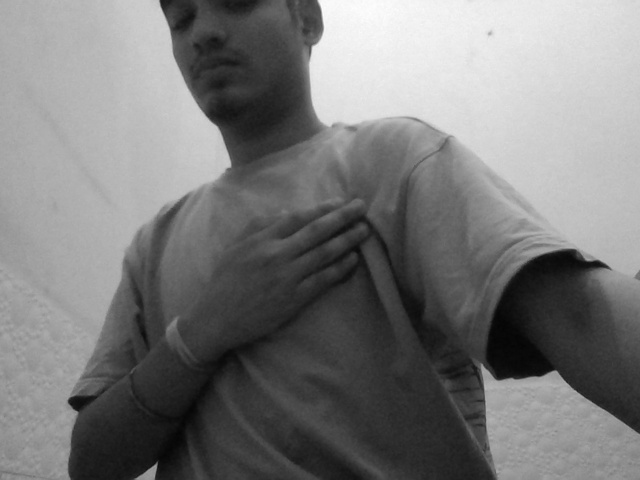Sorry: (175, 191, 404, 369)
